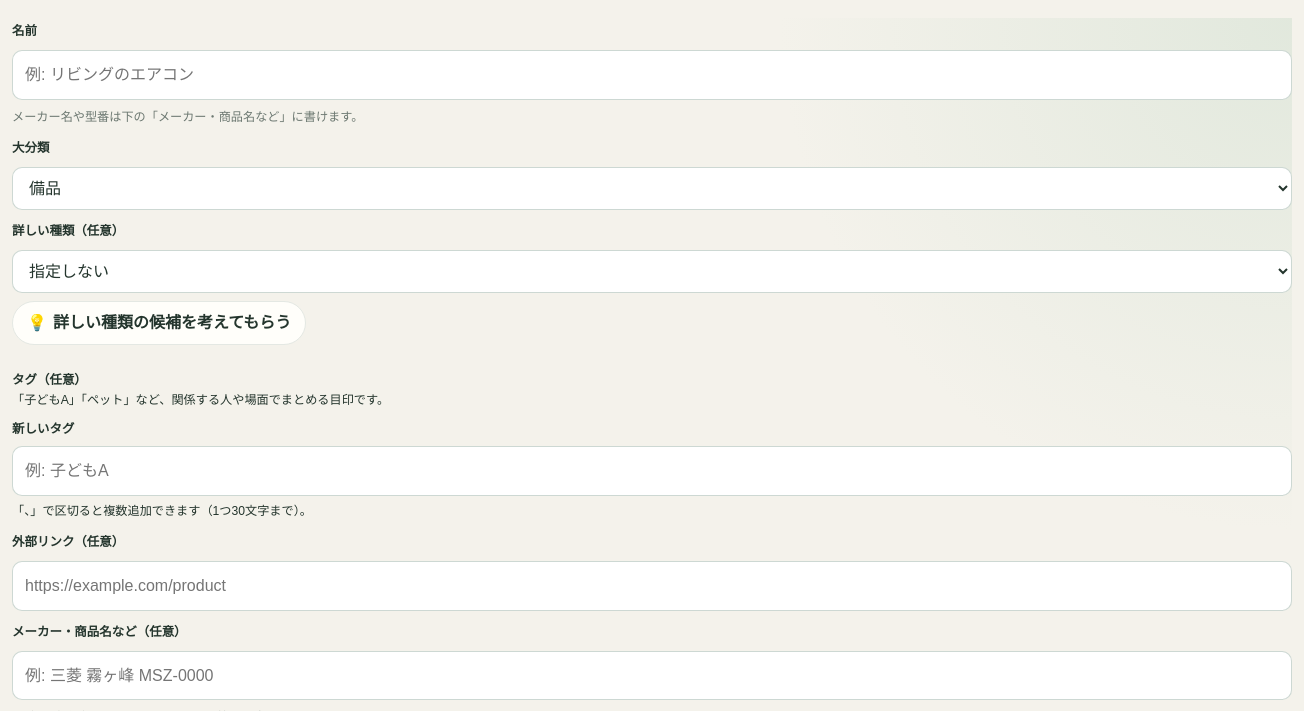
it: 詳しい種類のAI提案(Issue #332) › 候補を閉じただけなら提案IDを送らず、否定のフィードバックにしない
Click the button "💡 詳しい種類の候補を考えてもらう" at coordinates (159, 323), box [12,301,306,345]
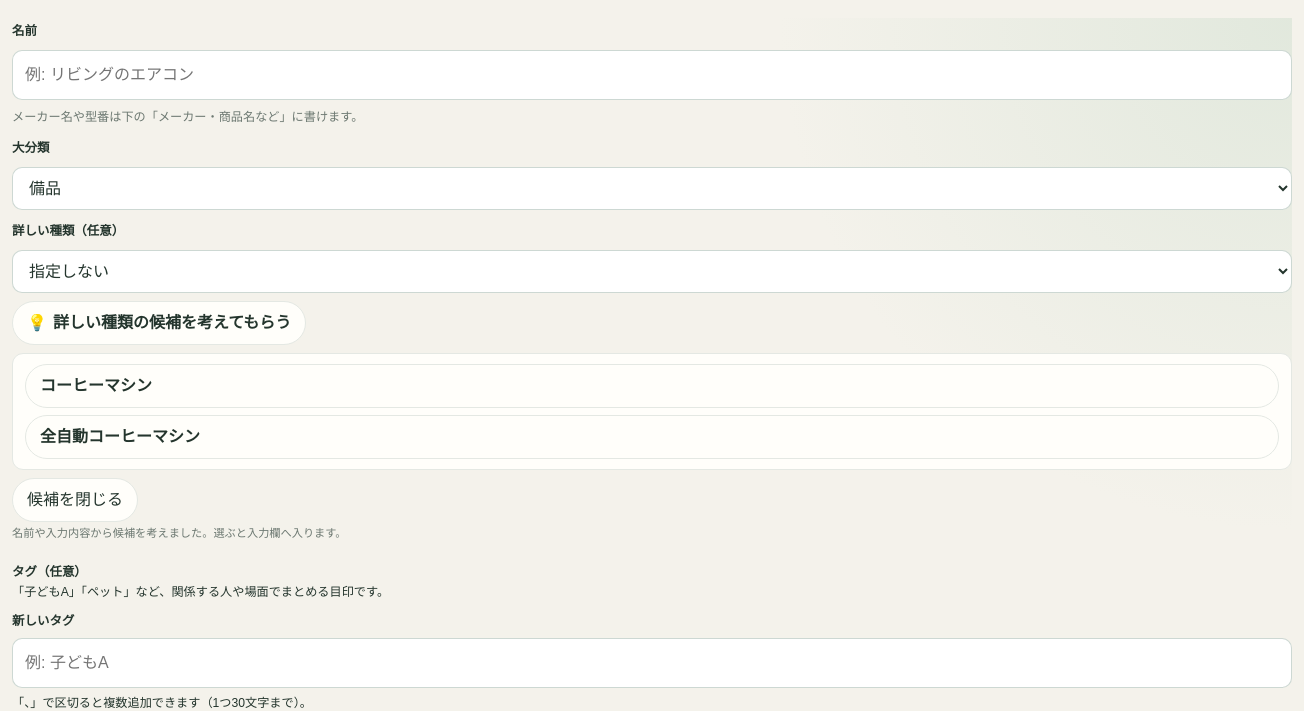
Expected: the element named "itemTypeSuggestionId" holds "suggestion-1", [12,301,1292,545]
Now the element named "考えた詳しい種類の候補から選ぶ" is shown, box [12,353,1292,470]
Click the button "候補を閉じる" at coordinates (75, 500), box [12,478,138,522]
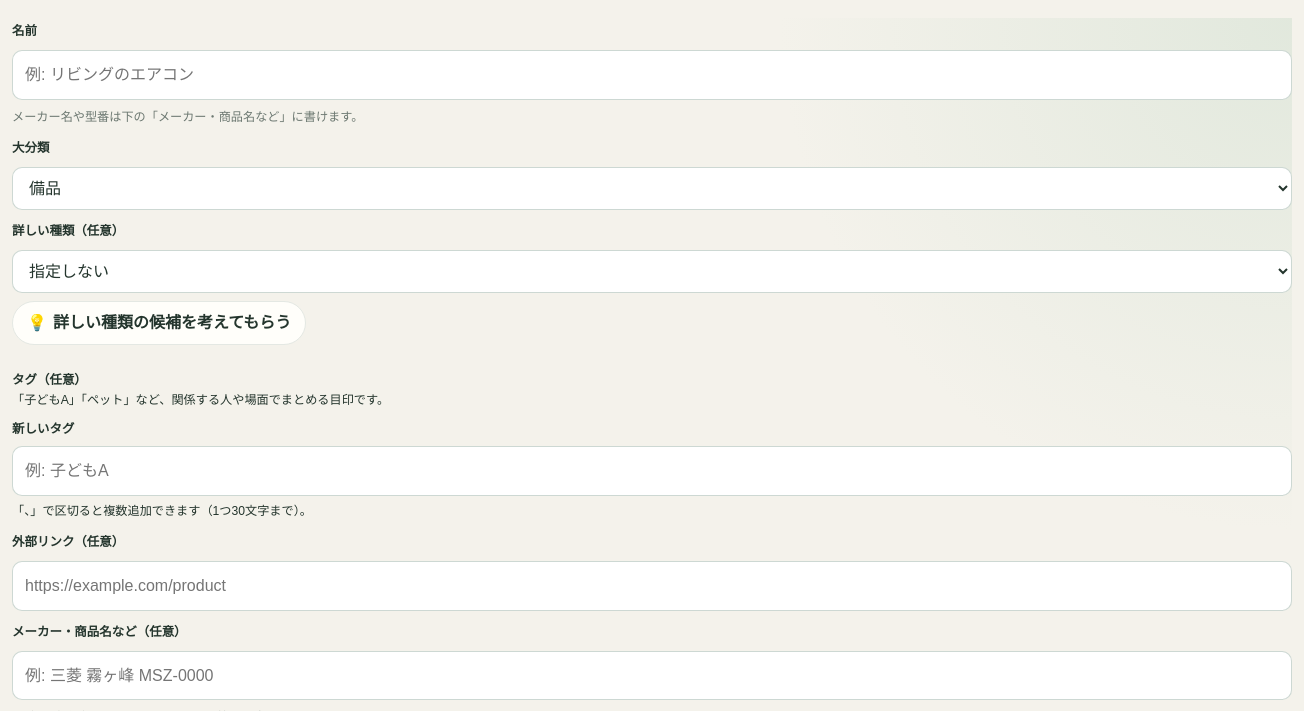
Now the element "考えた詳しい種類の候補から選ぶ" is gone
